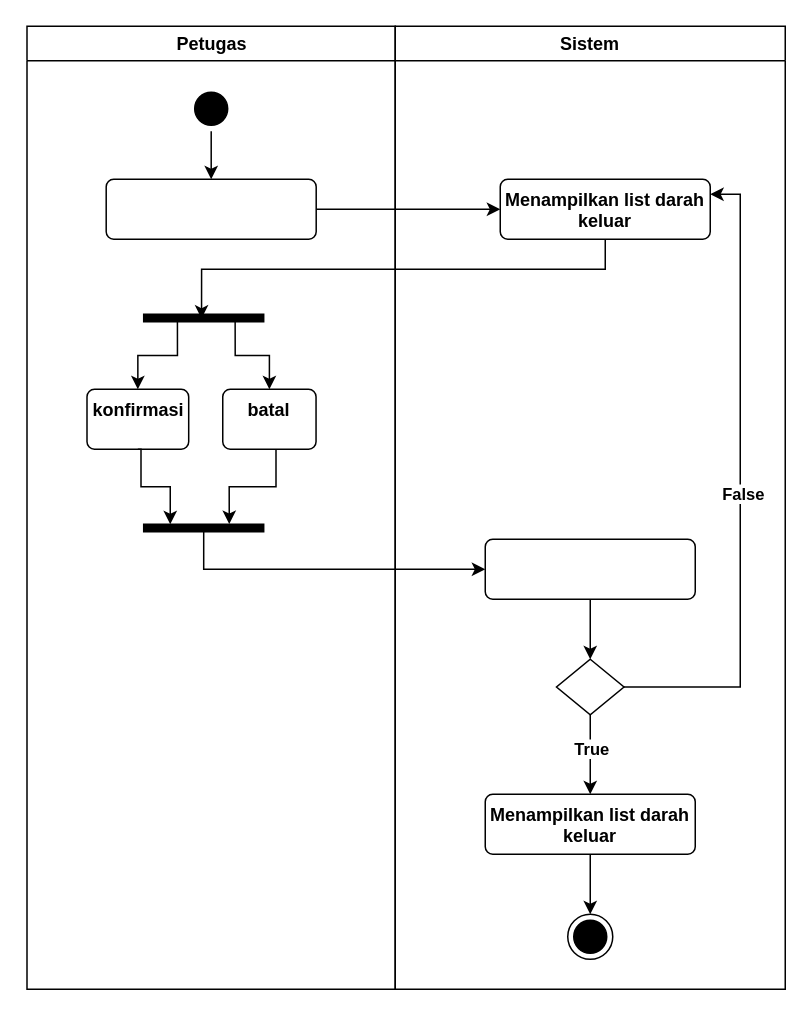
The diagram is 812 pixels wide and 1016 high, and some of its shapes have lost their labels. Each missing label, with the centre of its shape:
pilih menu kelola darah keluar: the point at 210,208
Simpan Perubahan: the point at 589,568
